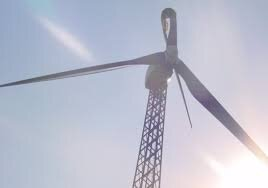faulty: (121, 7, 196, 108)
